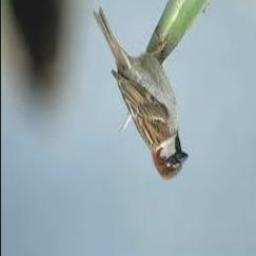Sparrow: (93, 9, 188, 181)
